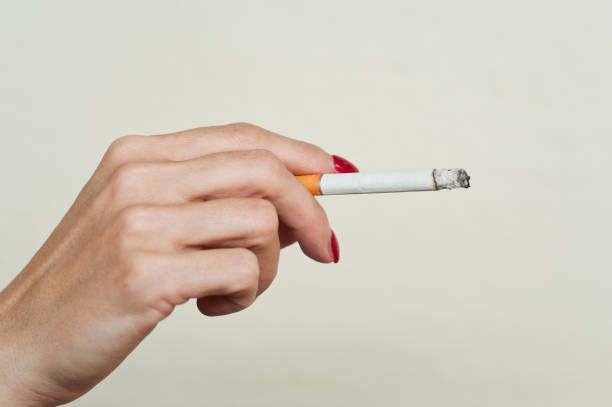cigarette: (299, 168, 472, 198)
